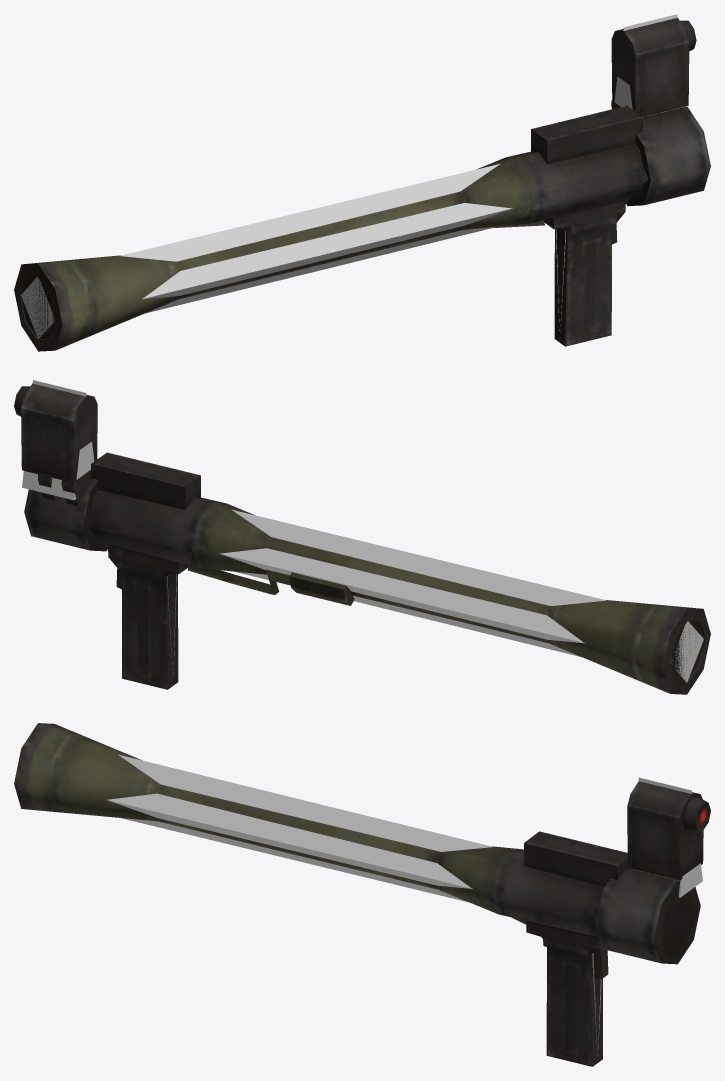
3 views of the same model, one above another, from view 1: azimuth 30°, elevation 25°; view 2: azimuth 150°, elevation 25°; view 3: azimuth 330°, elevation 25° (orthographic).
Visible parts, largest first — view 1: surface_001, surface_002, surface_004; view 2: surface_001, surface_002, surface_004; view 3: surface_001, surface_002, surface_004.
Boxes of the visible parts, box(x1,y1,x2,y2) form: surface_001: box(14, 18, 710, 351); surface_002: box(21, 14, 686, 338); surface_004: box(21, 30, 689, 351); surface_001: box(14, 383, 710, 694); surface_002: box(22, 380, 703, 682); surface_004: box(22, 396, 710, 694); surface_001: box(14, 723, 710, 1066); surface_002: box(106, 754, 702, 1056); surface_004: box(14, 784, 702, 1066).
Bounding box in the file's own units: 96.26 × 39.88 × 12.29.
